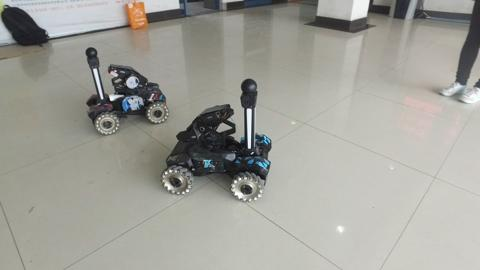bag: (1, 3, 52, 49)
chariot: (159, 76, 272, 207), (80, 43, 175, 137)
